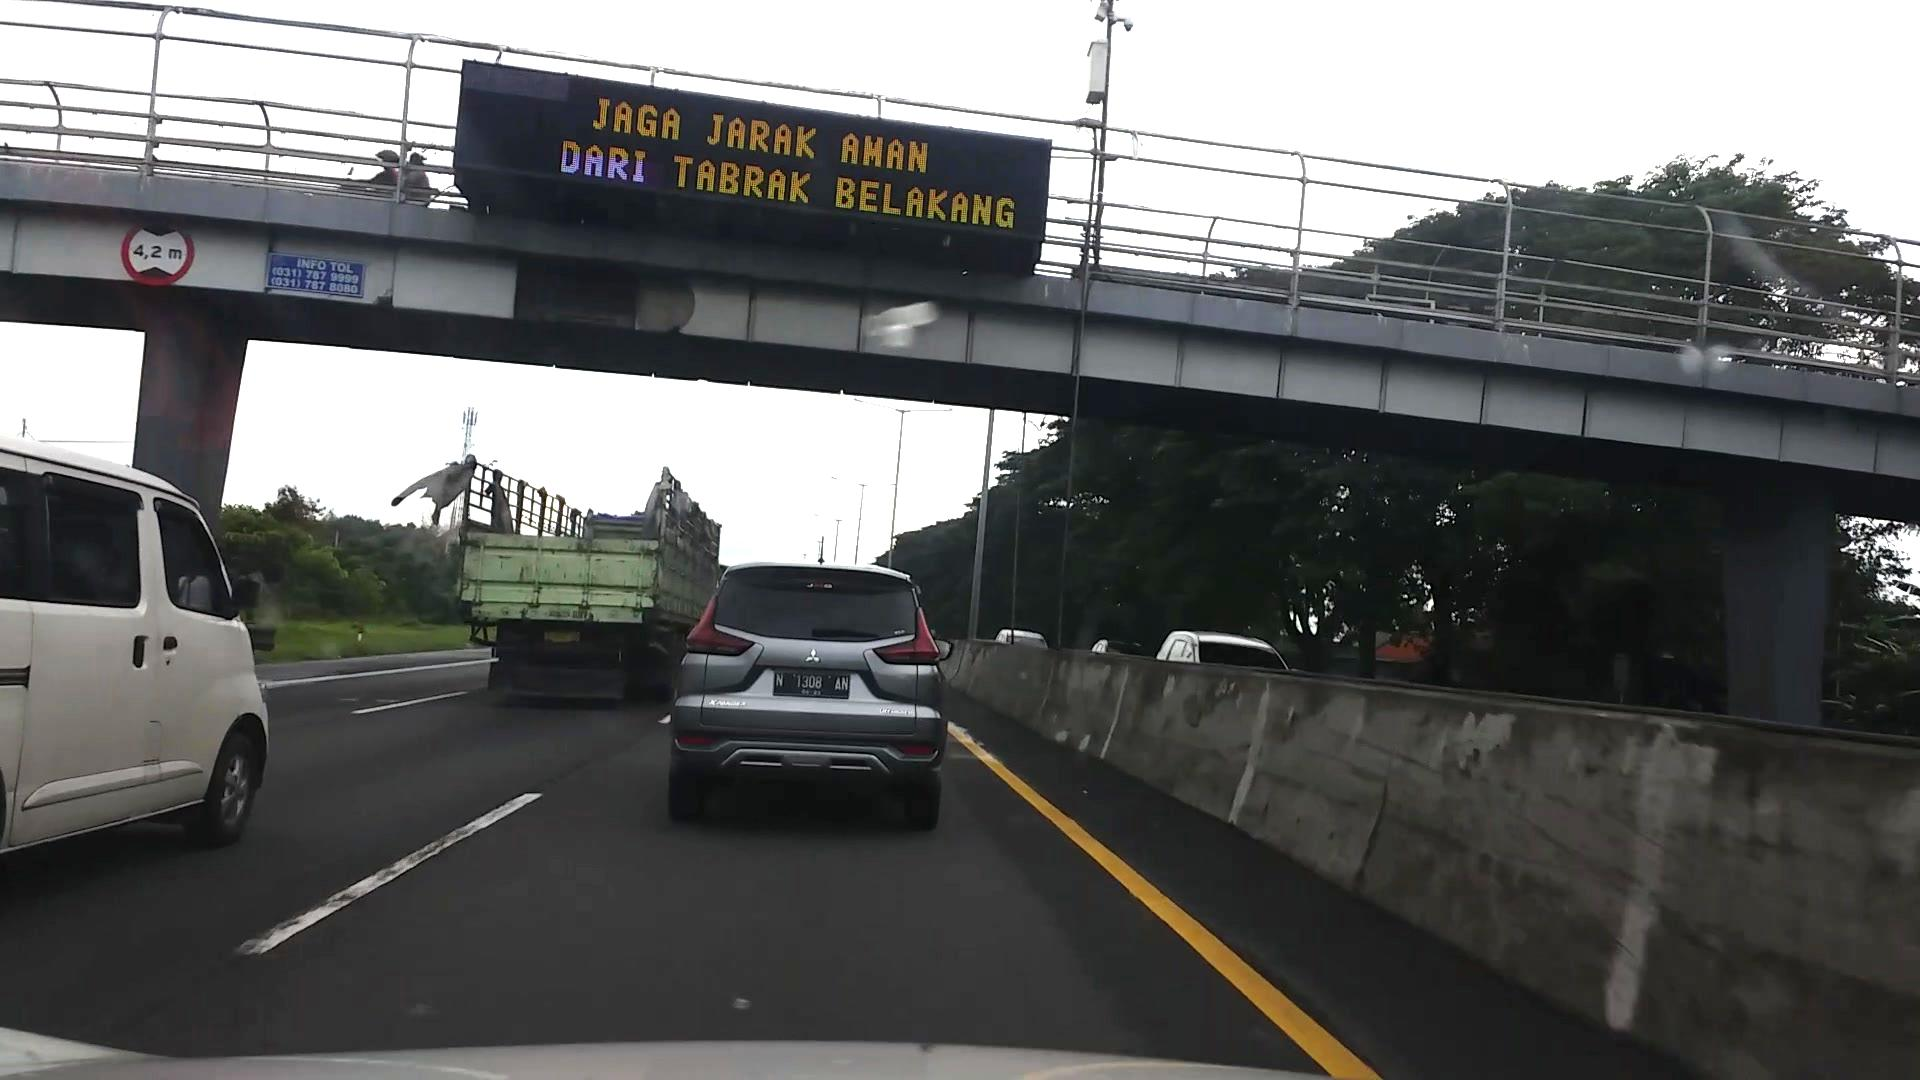plate_positive: (773, 670, 851, 698)
